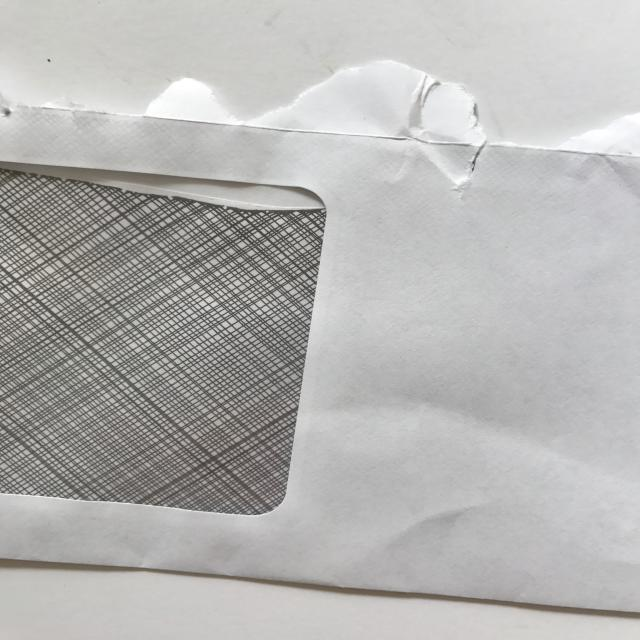paper: (1, 2, 638, 617)
